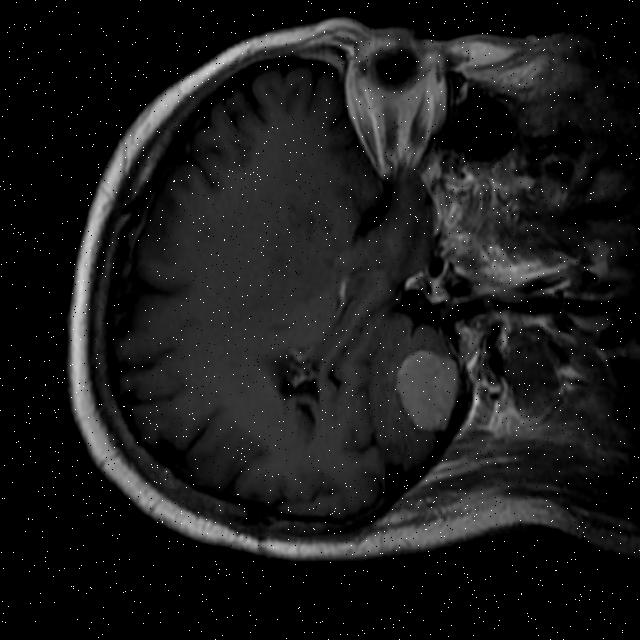Meningioma: (390, 343, 462, 436)
